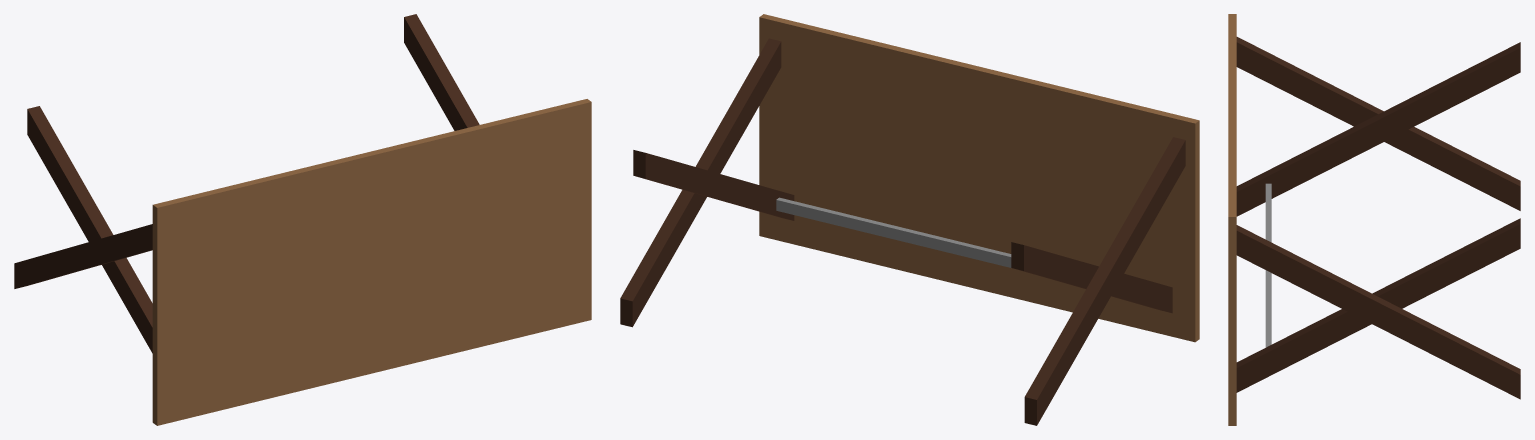
File: Desk.obj
3 views of the same model, side by side, from view 1: azimuth 30°, elevation 25°; view 2: azimuth 150°, elevation 25°; view 3: azimuth 270°, elevation 25° (orthographic). The views are drawn at different scales.
Visible parts, largest first — view 1: Desk.004; view 2: Desk.004; view 3: Desk.004.
Boxes of the visible parts, x1,y1,x2,y2 form: Desk.004: (14,14,591,425); Desk.004: (620,14,1199,425); Desk.004: (1228,14,1520,425).
Bounding box in the file's own units: 1.56 × 0.75 × 0.9509.
